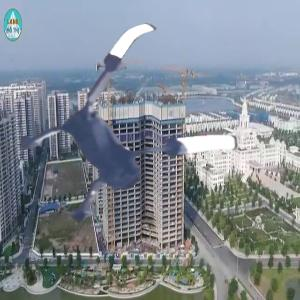drone: (3, 19, 247, 263)
